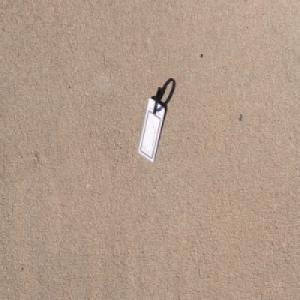LuggageTag: (137, 84, 166, 165)
